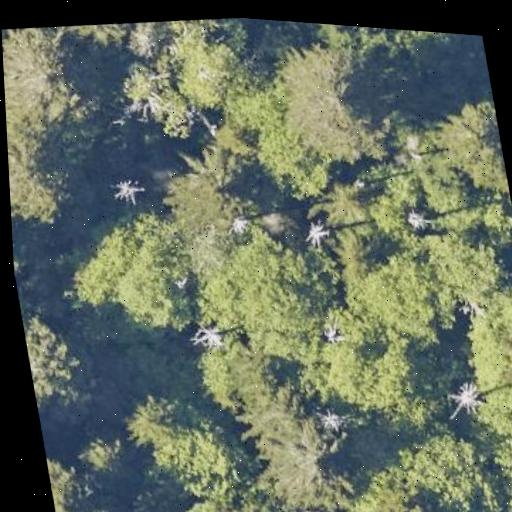tree-top: (54, 189, 197, 342), (194, 228, 339, 371), (124, 380, 262, 510), (321, 322, 452, 438), (271, 40, 381, 175), (257, 408, 367, 512), (1, 19, 100, 132), (453, 279, 512, 451), (399, 422, 505, 512), (350, 245, 440, 346), (223, 84, 312, 186), (160, 14, 244, 117), (411, 220, 506, 308), (435, 90, 510, 199), (6, 112, 80, 221), (104, 59, 192, 142), (22, 311, 89, 410), (174, 145, 253, 227), (317, 173, 378, 233), (76, 428, 130, 491), (345, 470, 425, 512), (46, 450, 96, 512), (481, 421, 512, 511), (58, 17, 138, 48), (381, 165, 427, 212), (477, 187, 512, 235), (178, 492, 252, 512), (388, 29, 448, 43)
